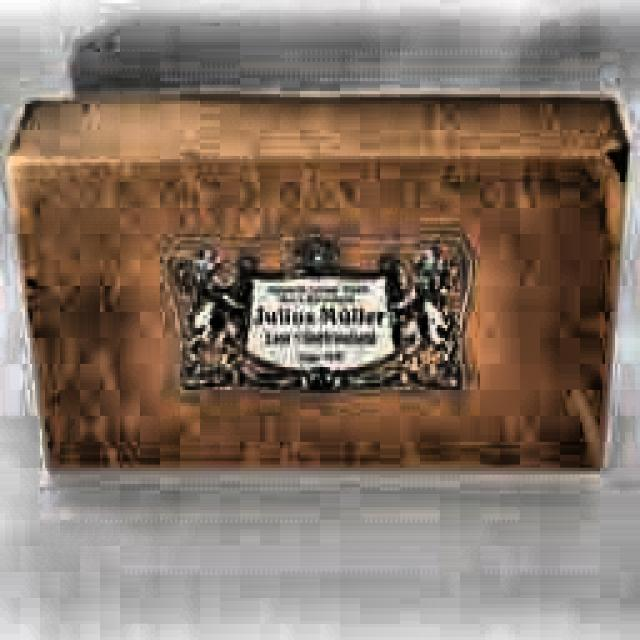Cardbox: (3, 81, 629, 486)
